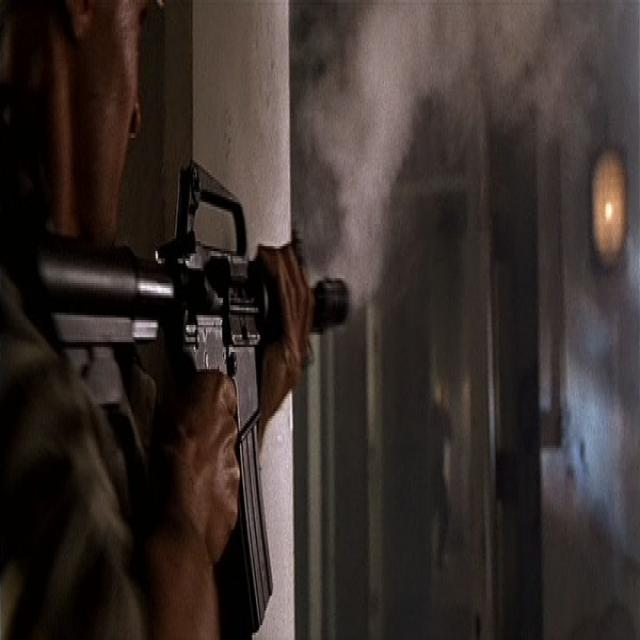rifle: (22, 144, 356, 640)
